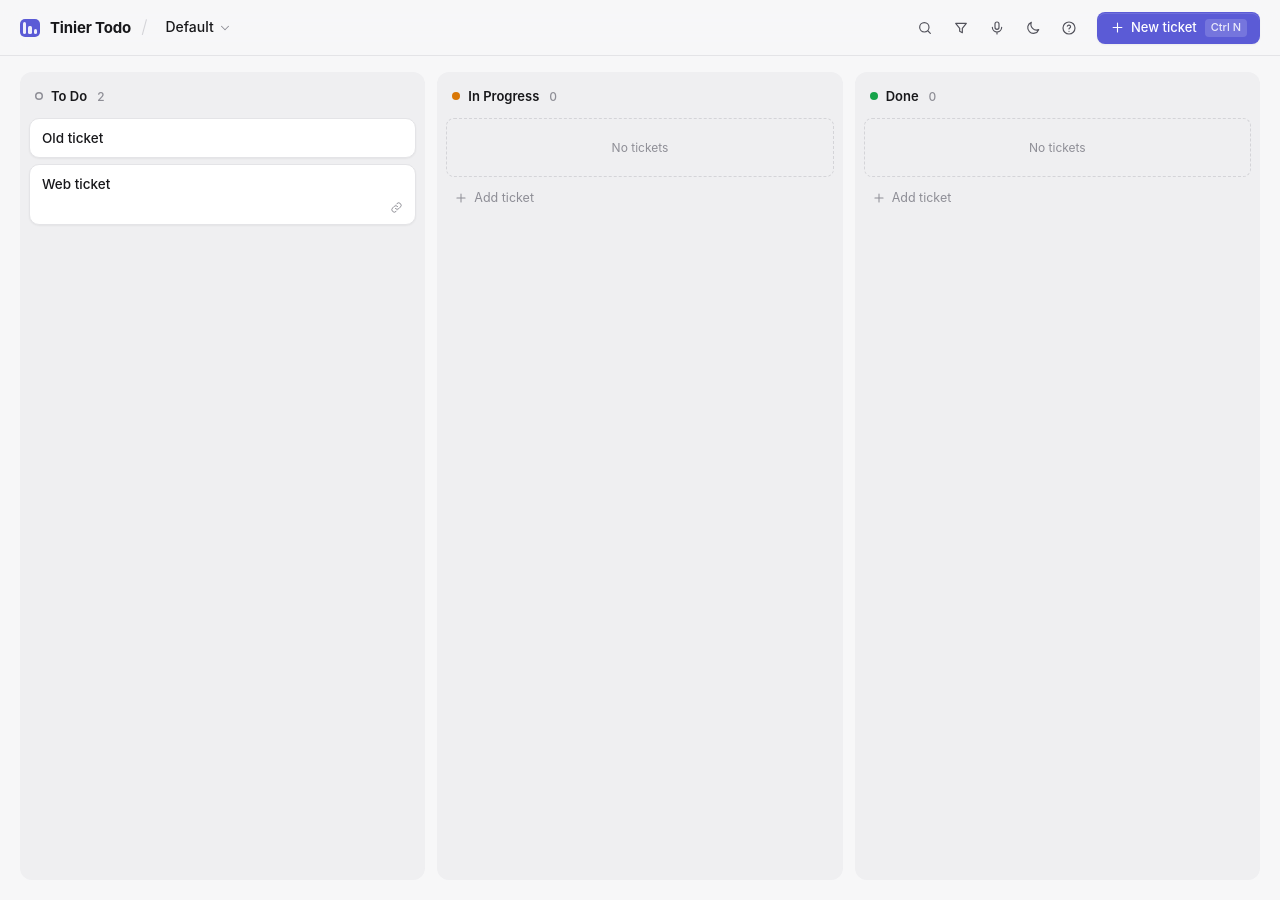
links › won't save a ticket with an unsafe link
Click the text "Web ticket".
click(76, 184)  # box [42,176,110,192]
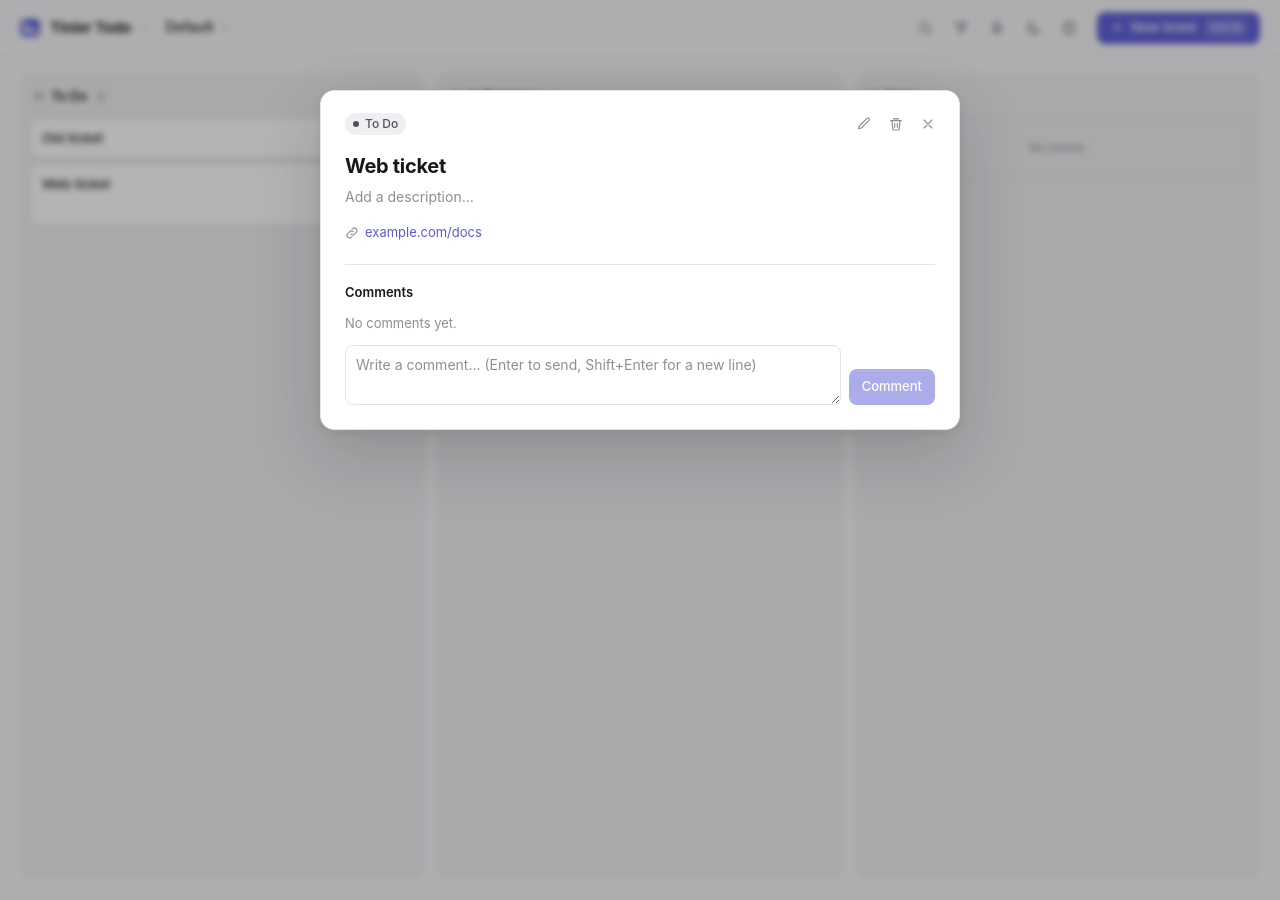
Click the button named "Edit ticket".
click(864, 124)  # box [849,109,879,139]
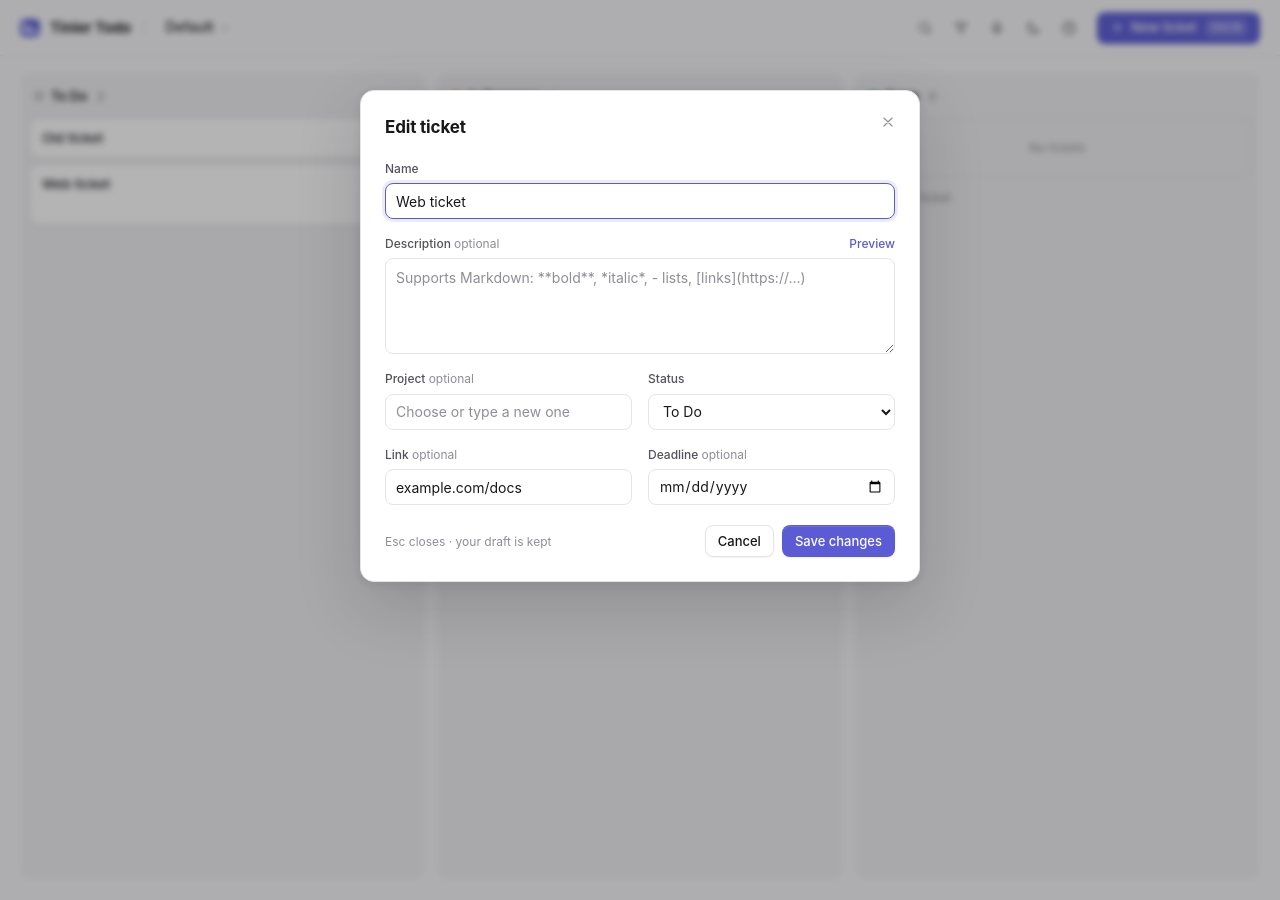
Replace the text in the field labelled "Link optional" with "vscode://evil" at (508, 487), box [385,469,632,505]
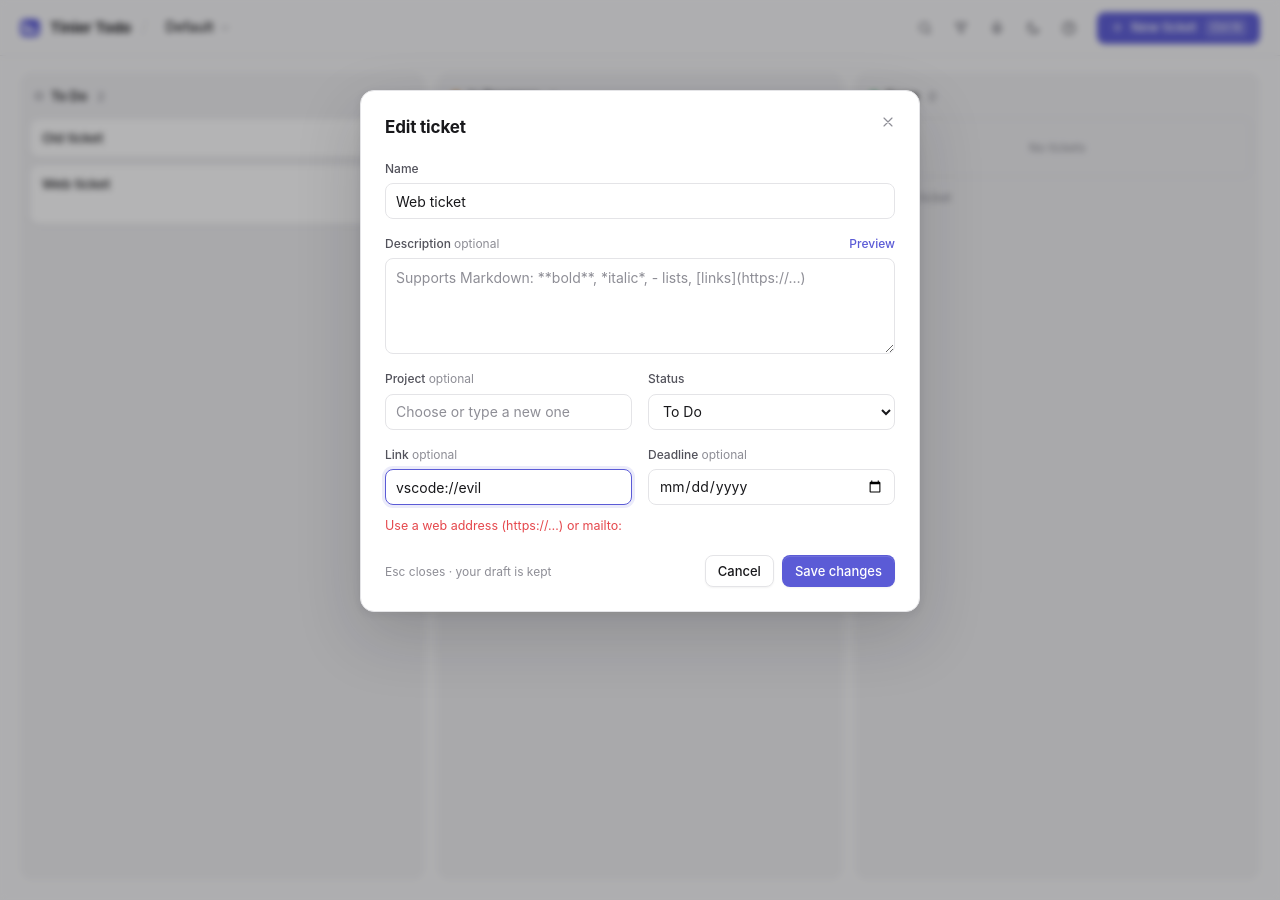
Result: the text "Use a web address (https://…) or mailto:" is shown at [385,517,632,535]
Click the button "Save changes".
click(838, 571)  # box [782,555,895,587]
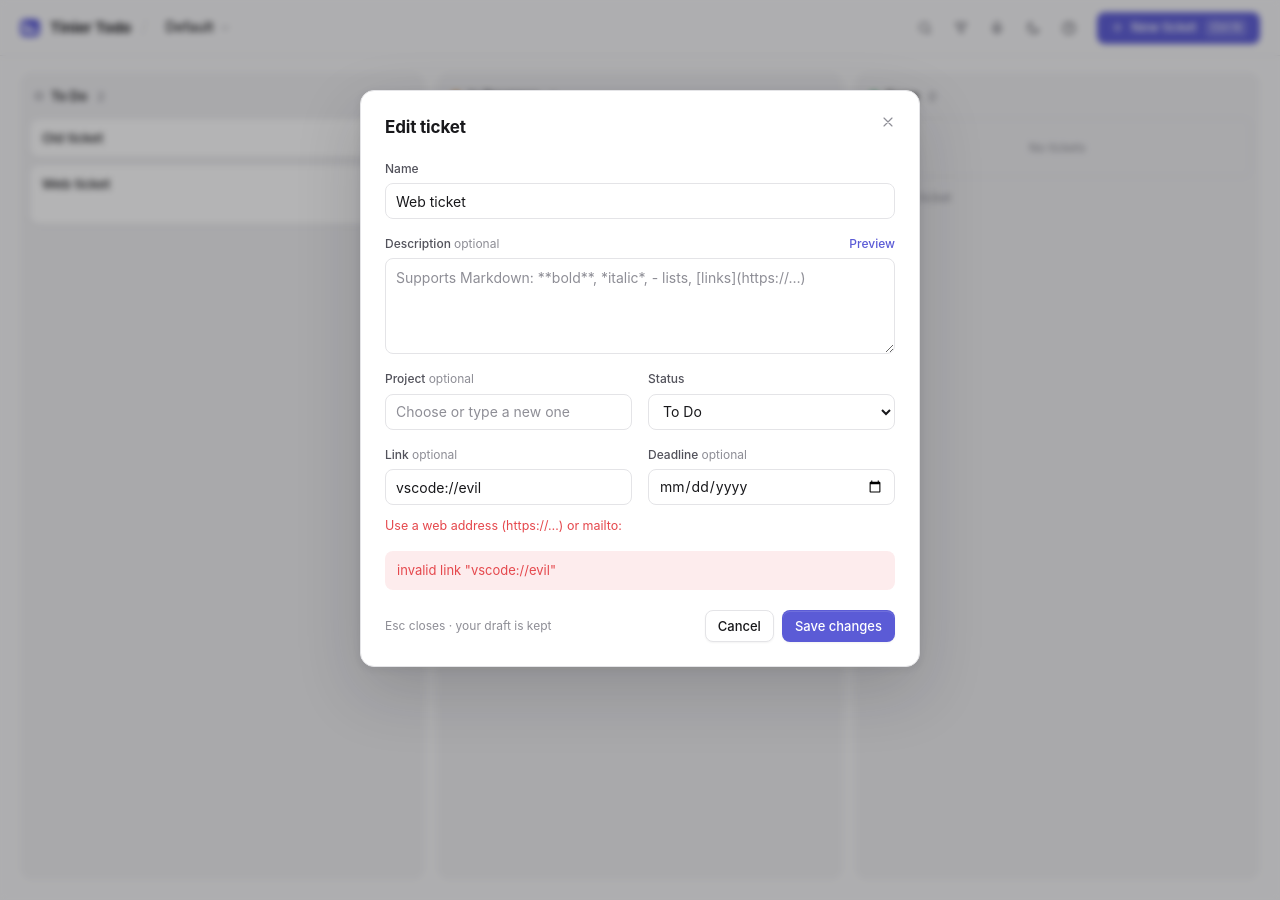
Result: the text "invalid link \"vscode://evil\"" is shown at [385,551,895,590]
